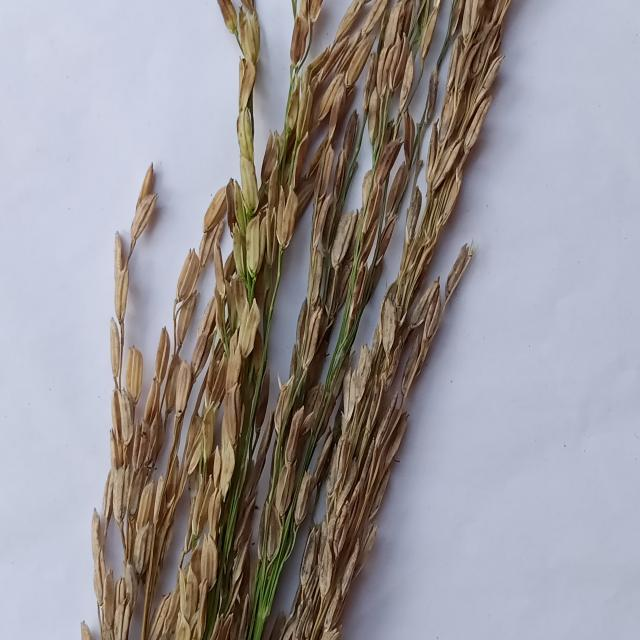Neck_Blast: (73, 0, 391, 640), (278, 0, 519, 640), (201, 0, 429, 640)
